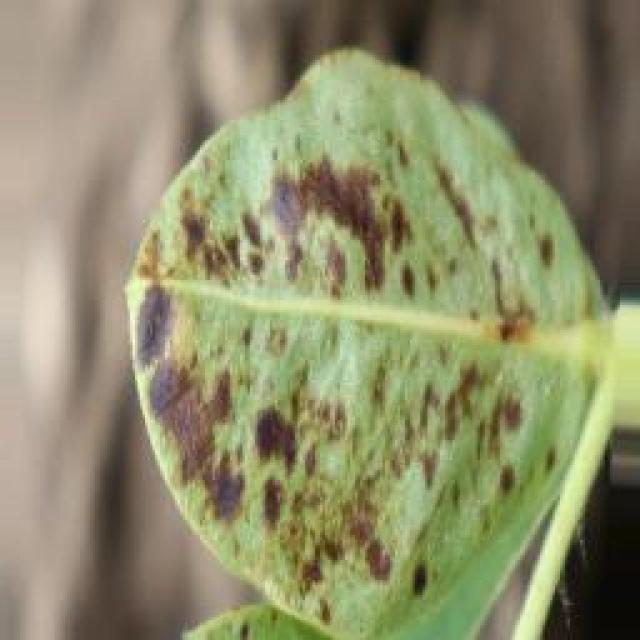Whitefly: (87, 142, 627, 598)
